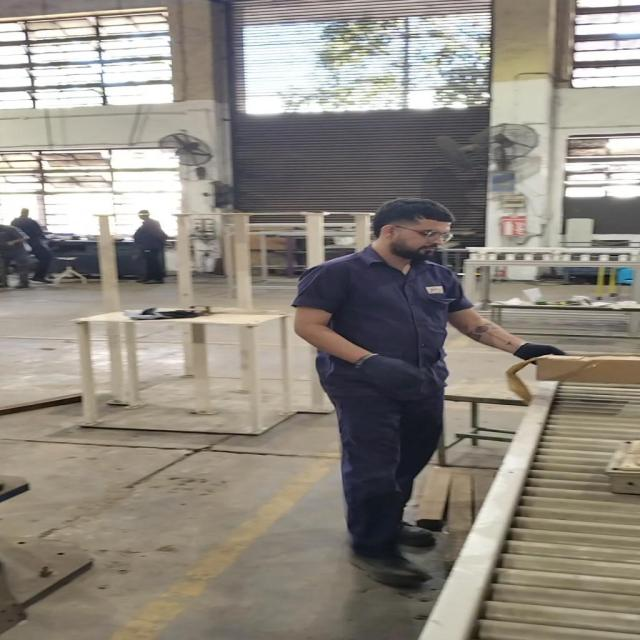Gloves-Detection: (354, 350, 436, 394), (516, 337, 564, 372)
